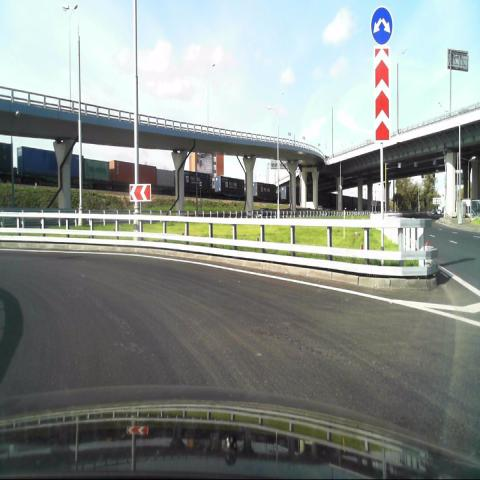4_2_3: (371, 3, 394, 47)
